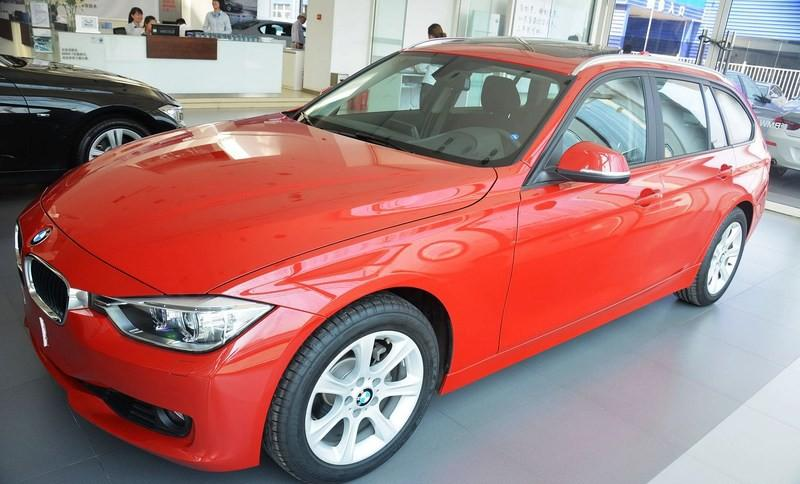Wagon: (13, 34, 772, 484)
